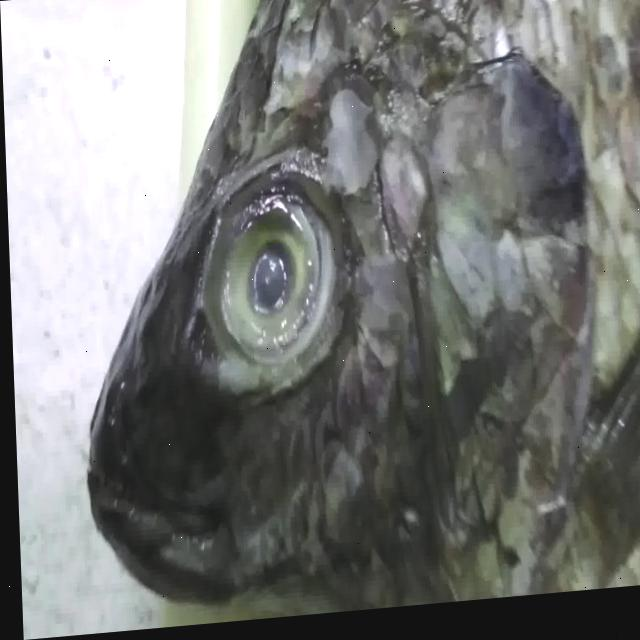Non-Fresh: (182, 154, 353, 389)
